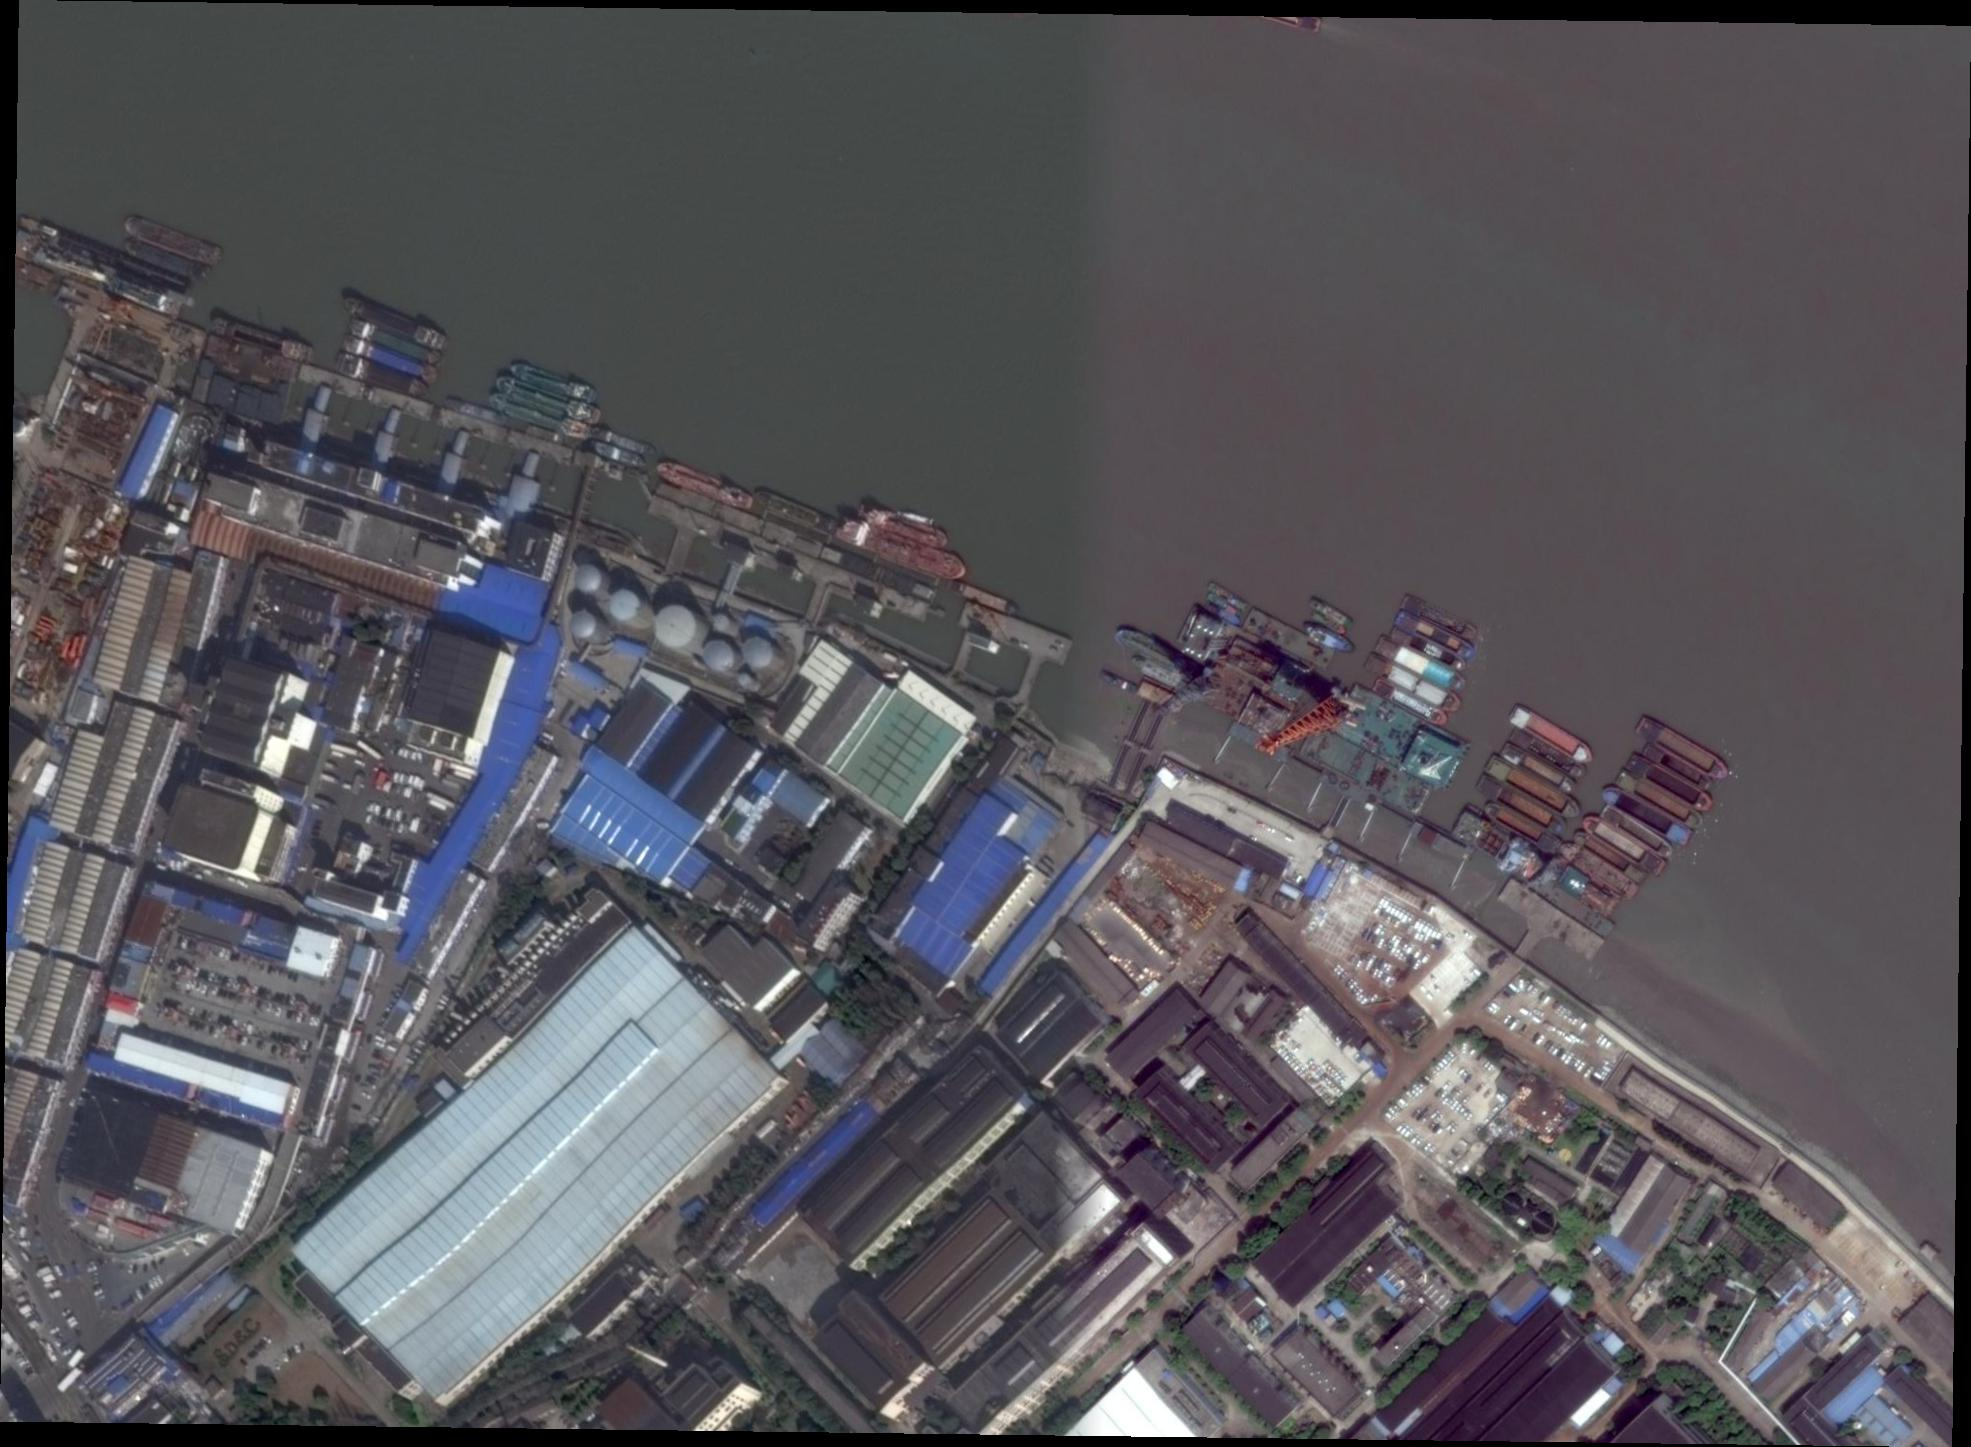ship: (15, 229, 187, 320), (17, 211, 190, 294), (836, 514, 972, 584), (1451, 805, 1552, 890), (1483, 751, 1584, 824), (1634, 711, 1732, 785), (1363, 650, 1466, 717), (341, 291, 450, 353), (1601, 782, 1696, 850), (1475, 772, 1572, 840), (1579, 811, 1671, 880), (122, 213, 228, 271), (1507, 701, 1598, 768), (1374, 632, 1469, 694), (494, 375, 604, 428), (1614, 768, 1706, 832), (1113, 621, 1204, 685), (1532, 873, 1618, 941), (1625, 753, 1717, 815), (653, 457, 754, 514), (1556, 837, 1640, 904), (487, 390, 594, 442), (211, 315, 318, 367), (341, 333, 442, 385), (347, 315, 445, 369), (334, 350, 433, 402), (1543, 854, 1622, 918), (1572, 828, 1653, 887), (1481, 798, 1562, 858), (857, 499, 952, 549), (508, 358, 601, 407), (1394, 609, 1478, 662), (1509, 728, 1588, 785), (1371, 675, 1451, 731), (753, 486, 840, 537), (1500, 740, 1579, 795), (1400, 592, 1481, 645), (1601, 803, 1677, 860), (1640, 740, 1719, 795), (122, 239, 213, 285), (1389, 624, 1471, 675), (947, 580, 1021, 616), (1299, 616, 1357, 659), (588, 437, 649, 471), (592, 427, 656, 457), (1308, 597, 1354, 630), (1207, 580, 1250, 612), (1204, 601, 1243, 629), (1310, 609, 1348, 635), (1207, 592, 1243, 618)
